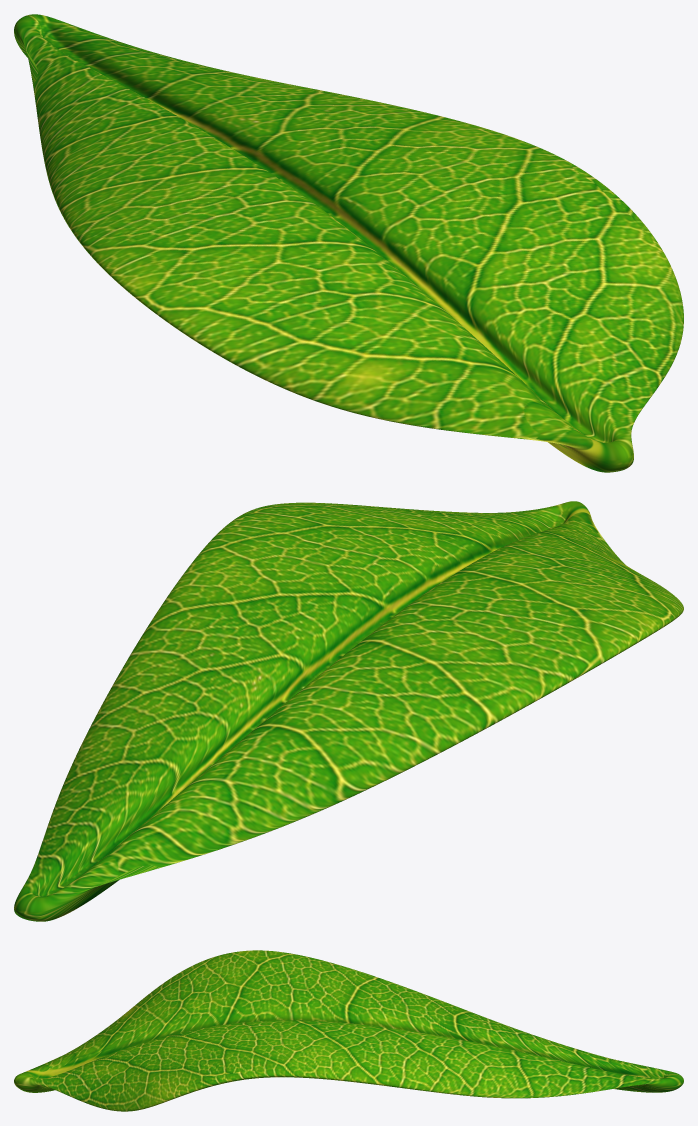
Rendered from Hidden_Leaf.fbx.
The picture shows the model from 3 angles, top to bottom: view 1: azimuth 30°, elevation 25°; view 2: azimuth 150°, elevation 25°; view 3: azimuth 270°, elevation 25°; orthographic projection. The views are drawn at different scales.
Parts seen in each view (by area): view 1: Plane; view 2: Plane; view 3: Plane.
Part boxes in pixels (left/top/right/bottom): Plane: left=14, top=14, right=683, bottom=472; Plane: left=14, top=501, right=683, bottom=921; Plane: left=14, top=950, right=683, bottom=1111.
Bounding box in the file's own units: 231 × 56.43 × 510.
